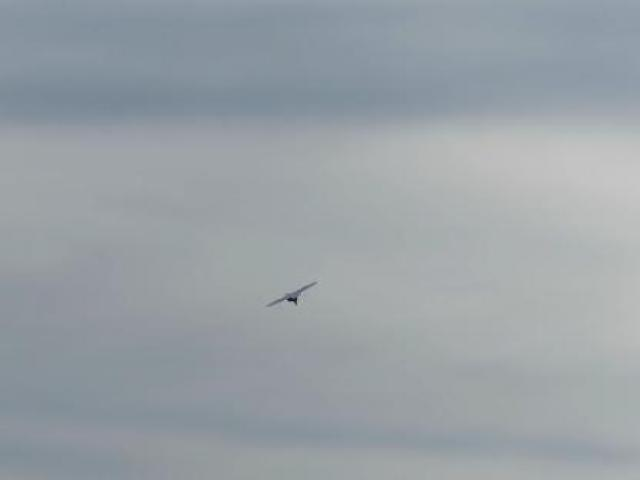uav: (264, 280, 318, 310)
